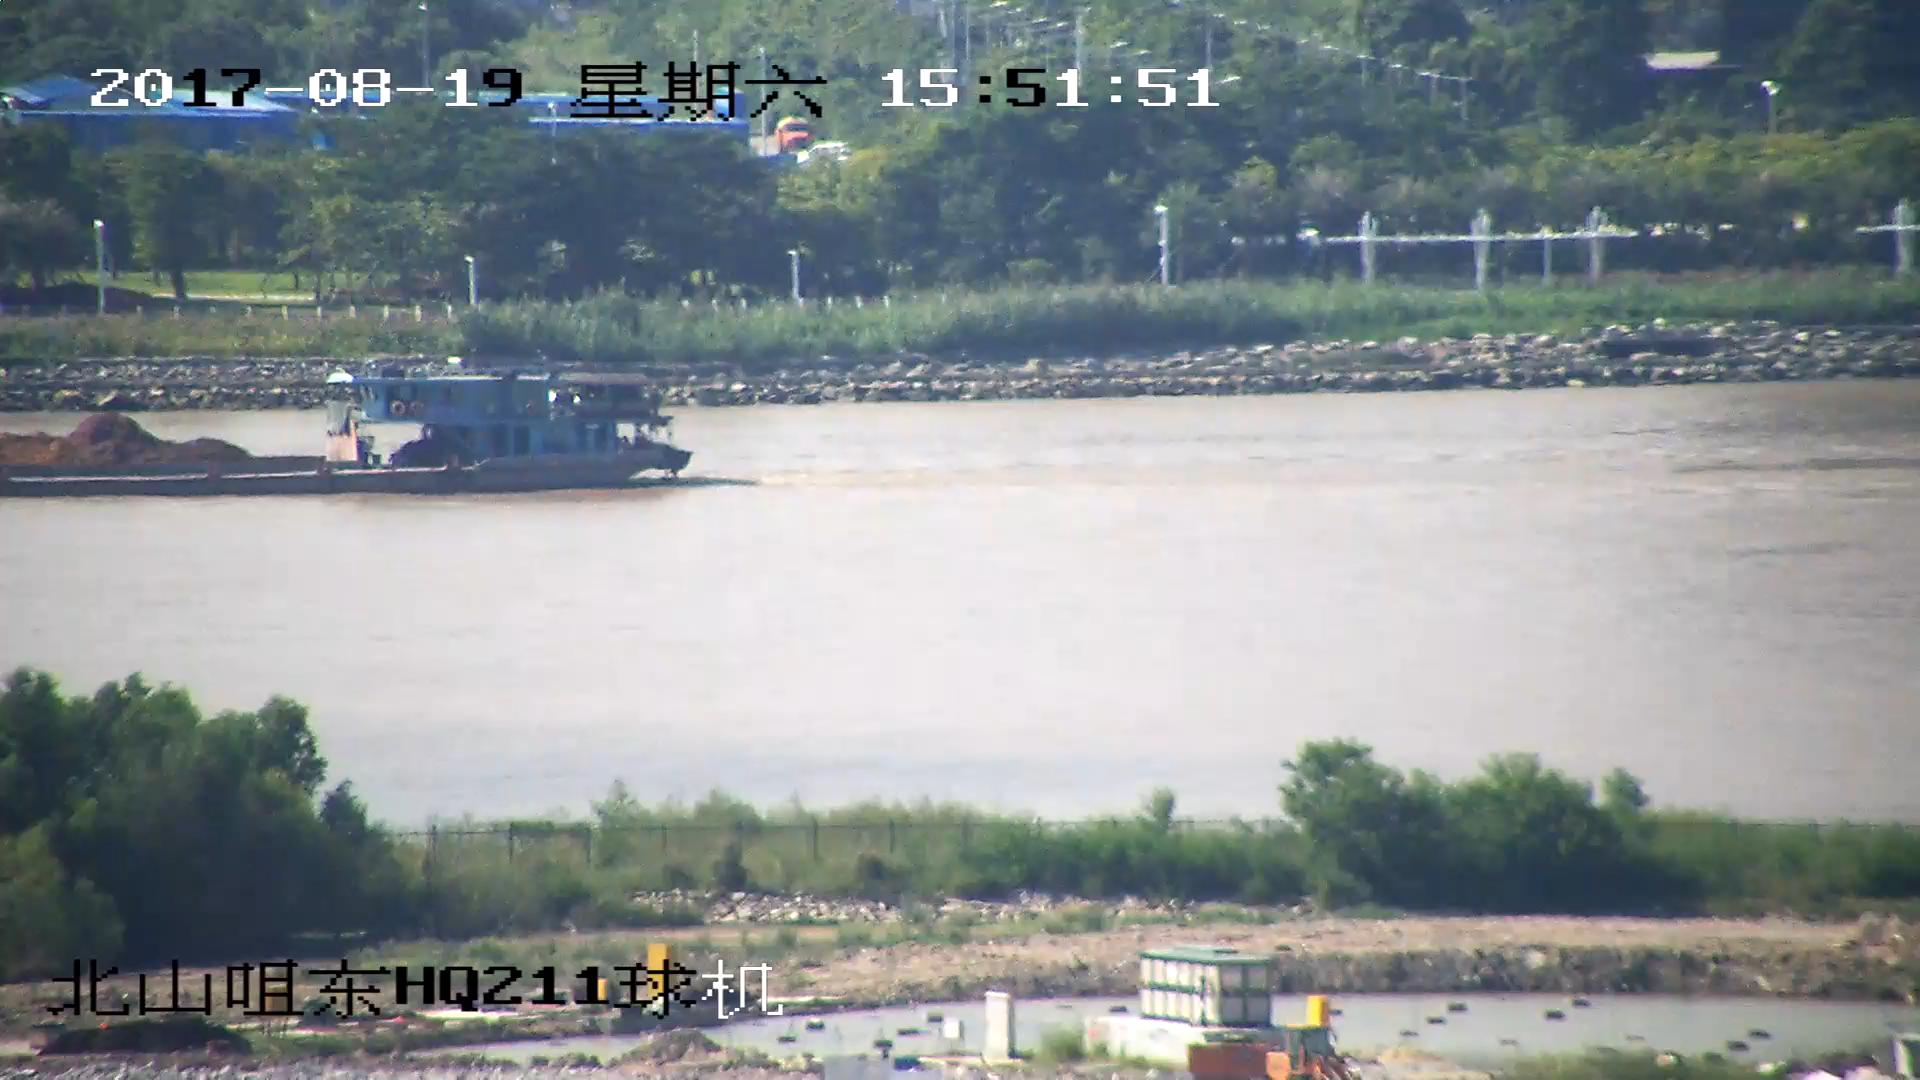ore carrier: (1, 355, 692, 497)
